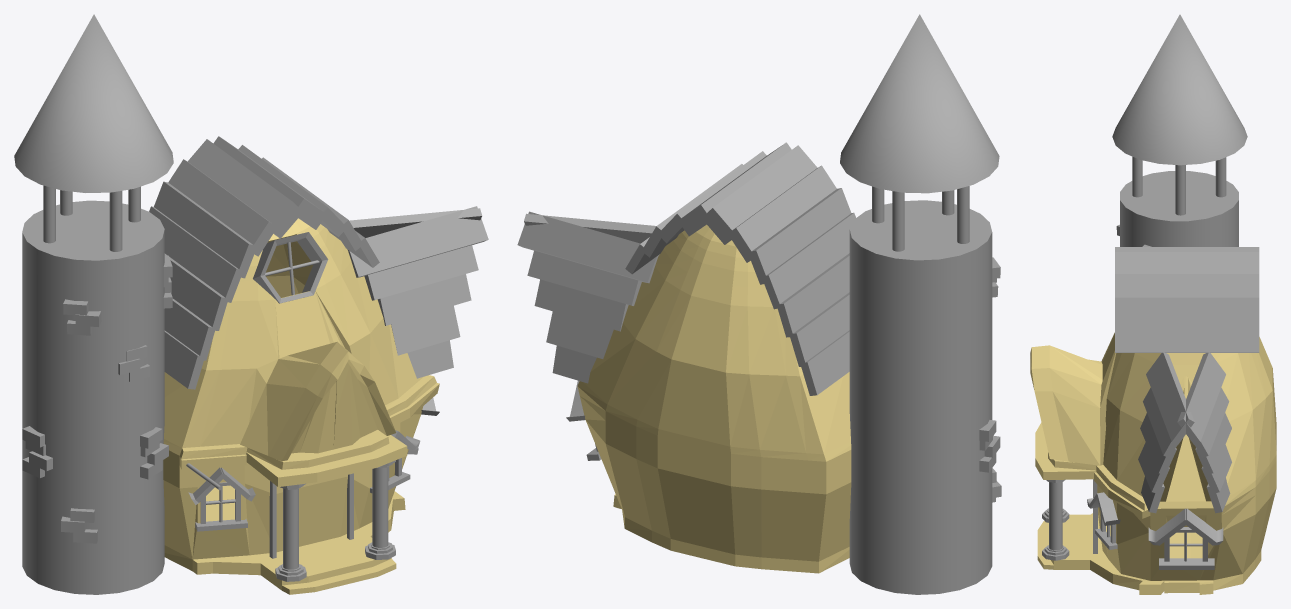
Rendered from archmage sample.fbx.
3 renders of one model, left to right at view 1: azimuth 30°, elevation 25°; view 2: azimuth 150°, elevation 25°; view 3: azimuth 270°, elevation 25°, orthographic. The views are drawn at different scales.
Visible parts, largest first — view 1: tower, Door_wall3, Mage_main_roof, side_roof, bricks, pillar, window_hexa, Window_left1, door_pane, Window_right2; view 2: tower, Door_wall3, Mage_main_roof, side_roof, bricks; view 3: Door_wall3, tower, Mage_main_roof, side_roof, window_mid, pillar, Window_right2.
Boxes of the visible parts, bbox=[...] form: tower: bbox=[14, 14, 173, 594]; Door_wall3: bbox=[163, 218, 439, 594]; Mage_main_roof: bbox=[149, 136, 379, 389]; side_roof: bbox=[347, 206, 488, 378]; bricks: bbox=[22, 255, 172, 543]; pillar: bbox=[275, 460, 395, 581]; window_hexa: bbox=[253, 232, 328, 303]; Window_left1: bbox=[188, 467, 255, 531]; door_pane: bbox=[269, 473, 353, 558]; Window_right2: bbox=[370, 430, 420, 493]; tower: bbox=[840, 14, 999, 594]; Door_wall3: bbox=[577, 224, 851, 573]; Mage_main_roof: bbox=[625, 142, 855, 395]; side_roof: bbox=[517, 211, 659, 383]; bricks: bbox=[979, 257, 1001, 502]; Door_wall3: bbox=[1030, 332, 1276, 594]; tower: bbox=[1112, 14, 1247, 246]; Mage_main_roof: bbox=[1115, 247, 1259, 352]; side_roof: bbox=[1138, 352, 1231, 513]; window_mid: bbox=[1148, 508, 1223, 569]; pillar: bbox=[1042, 479, 1069, 560]; Window_right2: bbox=[1087, 492, 1120, 549].
Bounding box in the file's own units: 44.43 × 50.77 × 24.42.
